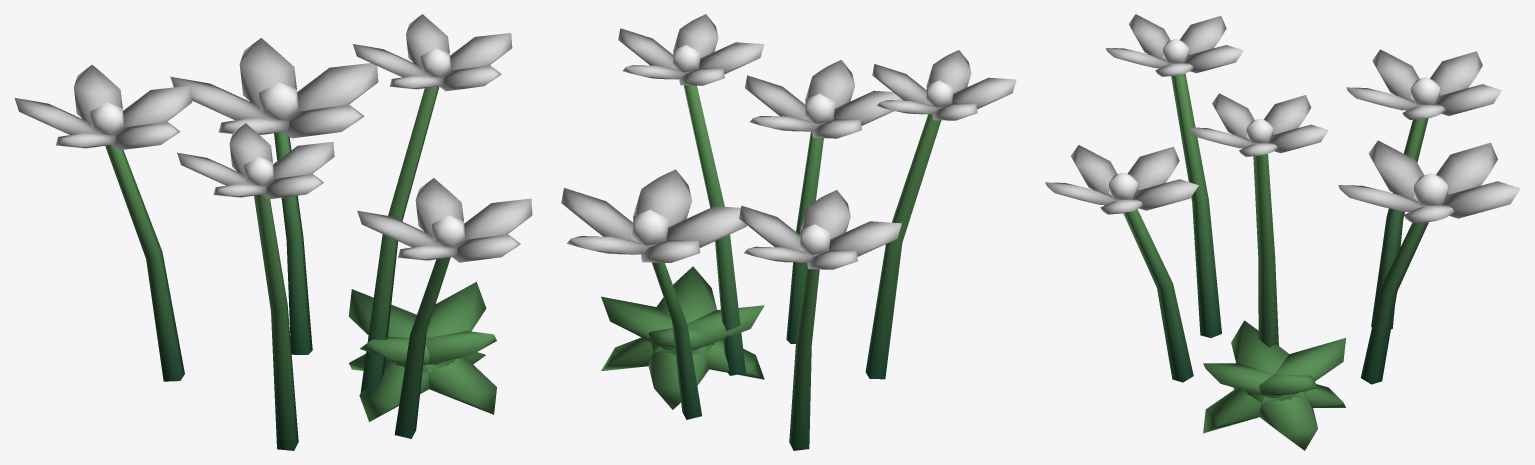
File: flower.glb
3 renders of one model, left to right at view 1: azimuth 30°, elevation 25°; view 2: azimuth 150°, elevation 25°; view 3: azimuth 270°, elevation 25°, orthographic. The views are drawn at different scales.
Parts seen in each view (by area): view 1: flower_body, flower_glow; view 2: flower_body, flower_glow; view 3: flower_body, flower_glow.
Part boxes in pixels (x1,y1,x2,y2): flower_body: (14,14,532,450); flower_glow: (90,48,465,247); flower_body: (561,14,1016,450); flower_glow: (631,45,953,255); flower_body: (1045,14,1520,450); flower_glow: (1109,38,1447,206).
Bounding box in the file's own units: 0.6273 × 0.5548 × 0.7854.
